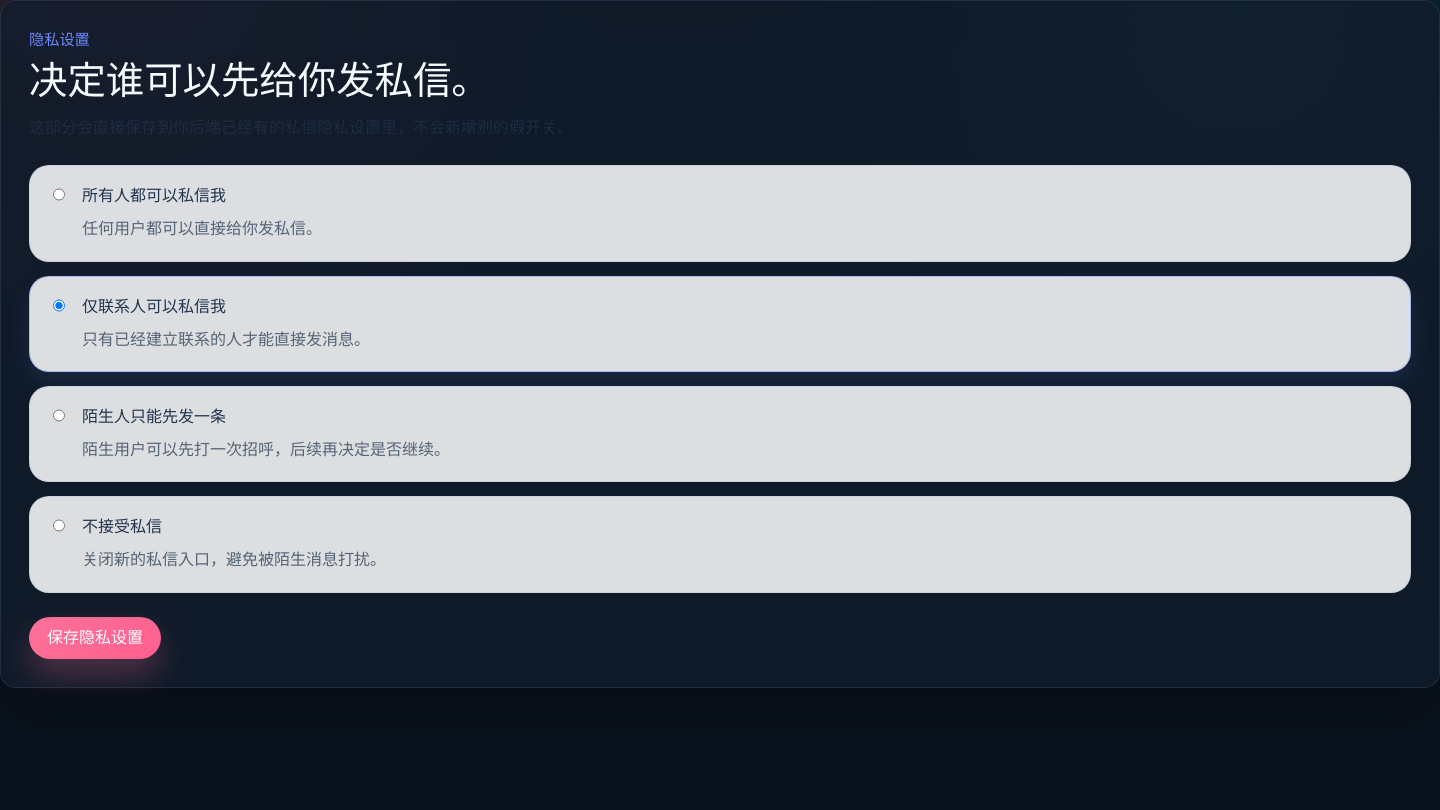
Test case: ProfilePrivacyView › saves private message policy changes through the existing privacy endpoint
Click the radio button labelled "不接受私信 关闭新的私信入口，避免被陌生消息打扰。" at (59, 526), box [53,519,65,532]
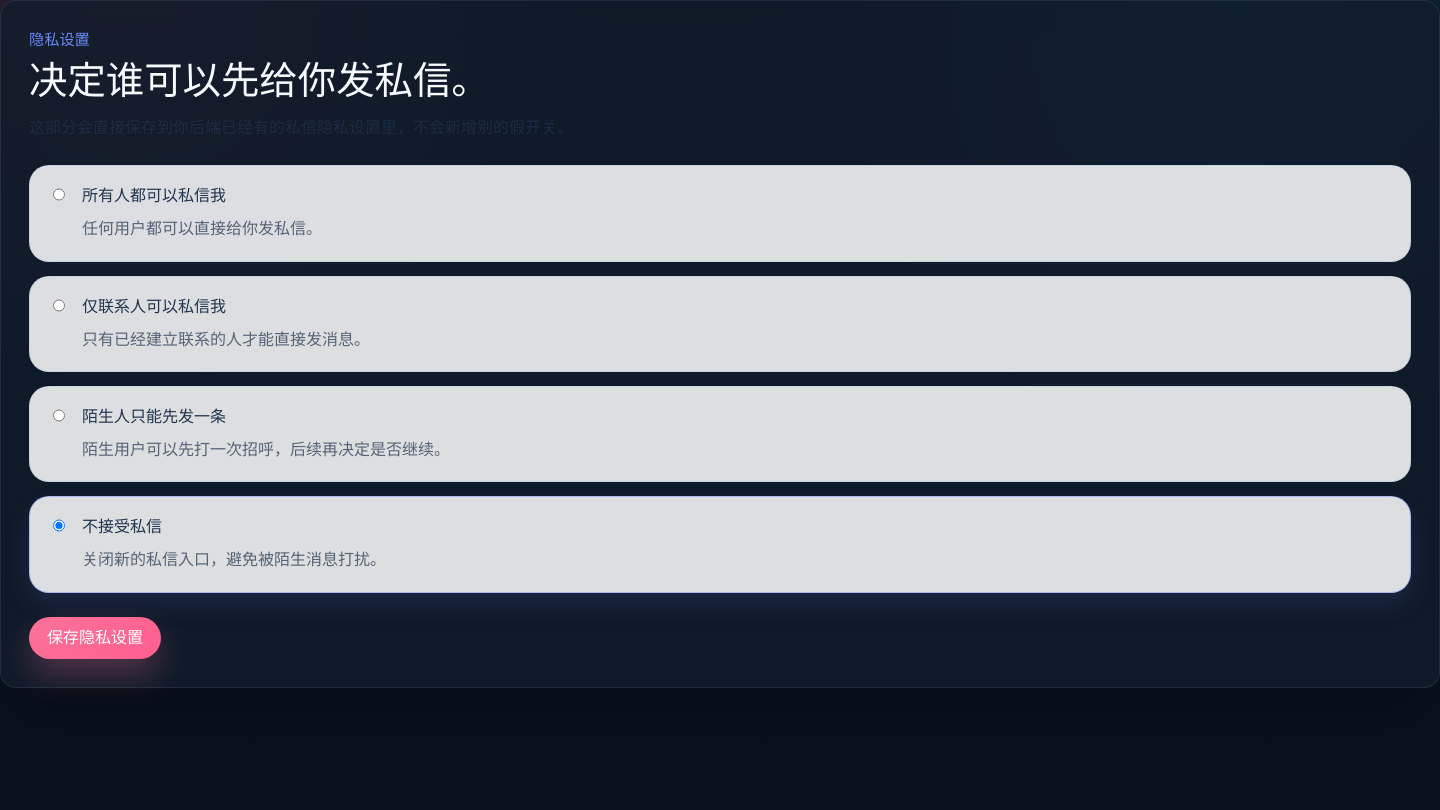
Click the button "保存隐私设置" at (95, 638), box [29,617,161,659]
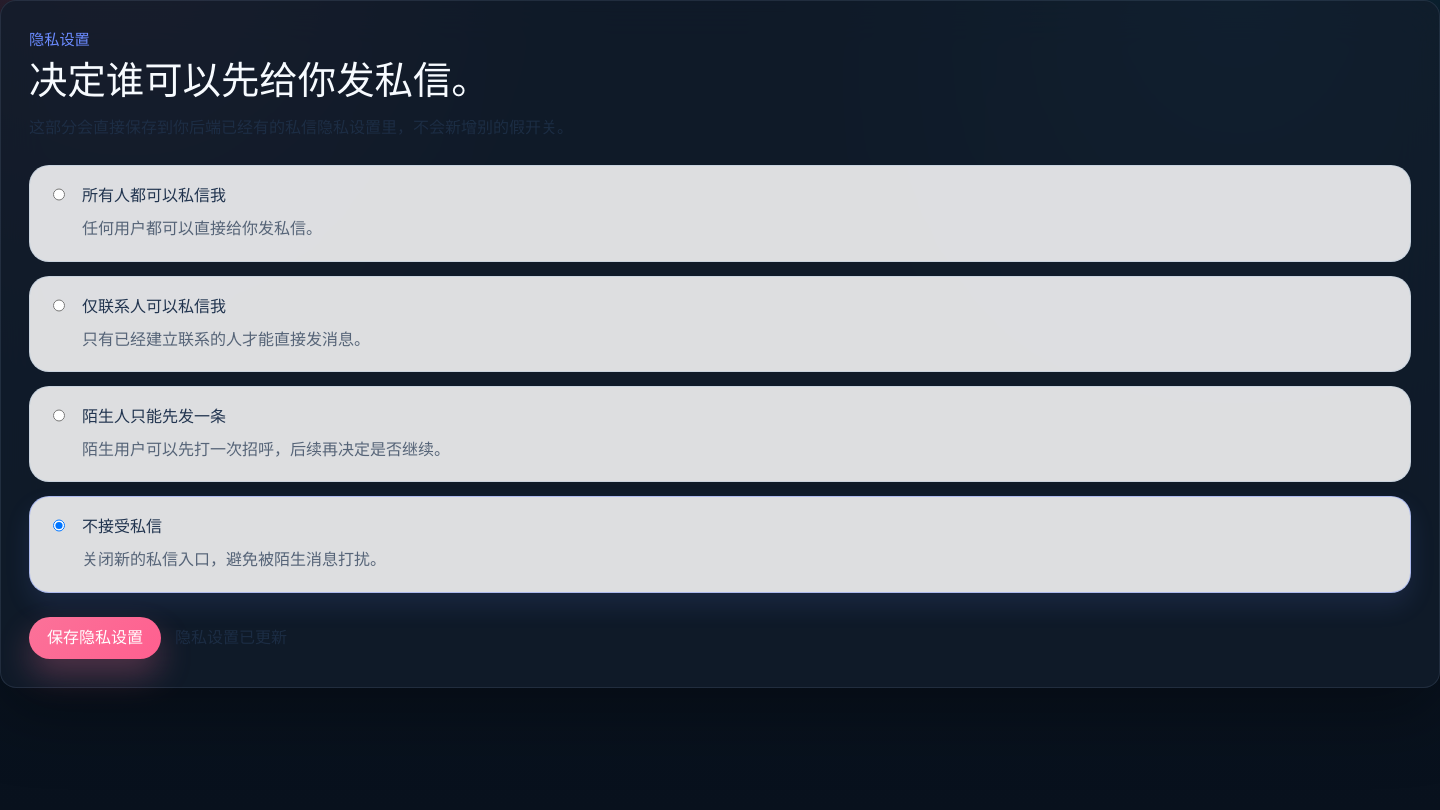
Now the text "隐私设置已更新" is shown, box [175,626,287,650]
